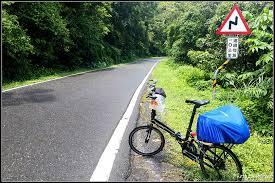double_bend_right: (214, 2, 251, 34)
